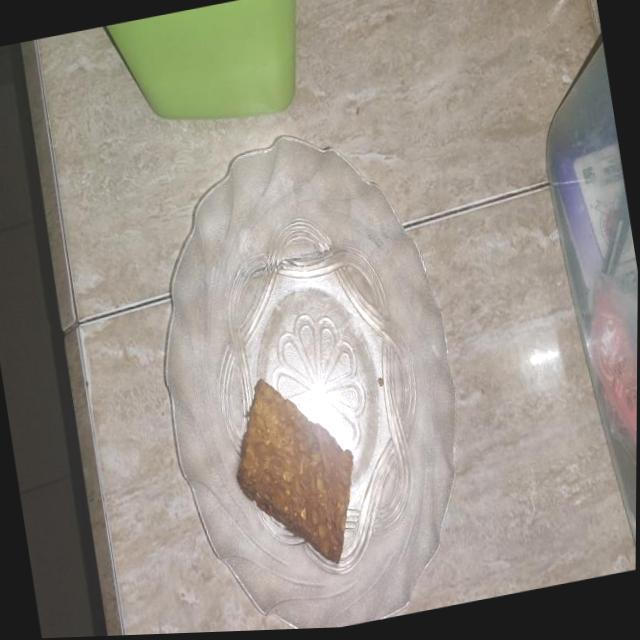tempe_goreng: (237, 380, 353, 562)
